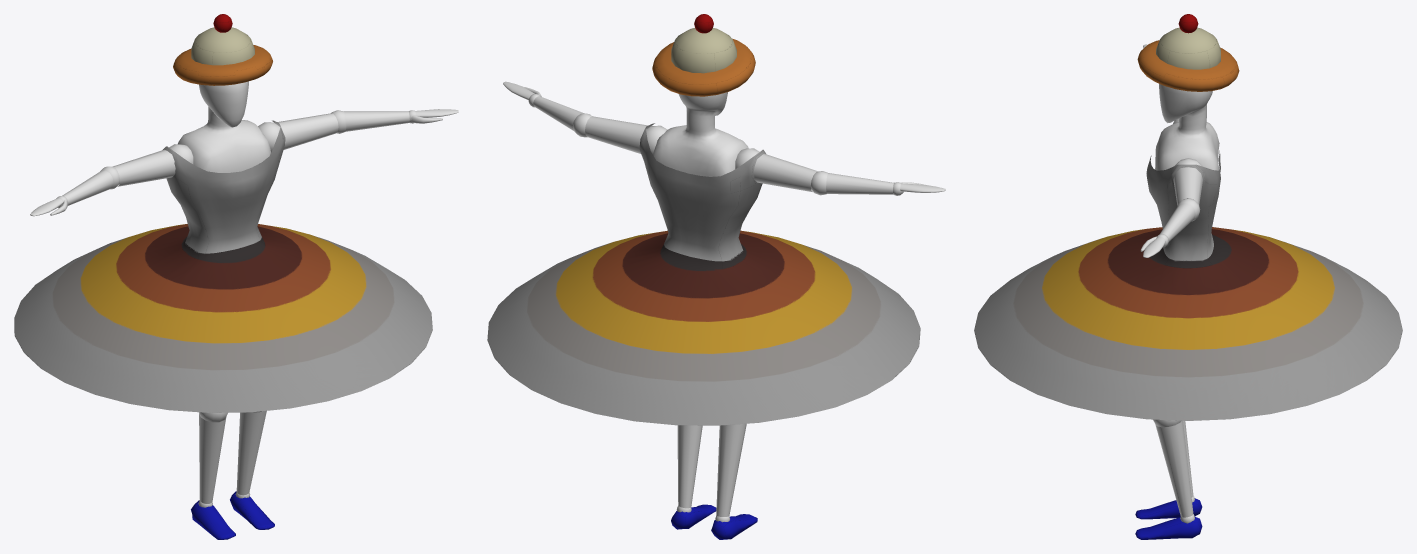
The model's file is modelCompilation_BG.gltf.
The picture shows the model from 3 angles, left to right: view 1: azimuth 30°, elevation 25°; view 2: azimuth 150°, elevation 25°; view 3: azimuth 270°, elevation 25°; orthographic projection. The views are drawn at different scales.
Visible parts, largest first — view 1: CustomBG_1, BodyBG; view 2: CustomBG_1, BodyBG; view 3: CustomBG_1, BodyBG.
Part boxes in pixels (x1,y1,x2,y2): CustomBG_1: (14, 14, 432, 539); BodyBG: (30, 81, 458, 507); CustomBG_1: (487, 14, 920, 539); BodyBG: (503, 81, 945, 522); CustomBG_1: (974, 14, 1402, 539); BodyBG: (1140, 44, 1219, 523).
Bounding box in the file's own units: 4.34 × 4.86 × 3.69.
2 materials, 1 textured.
